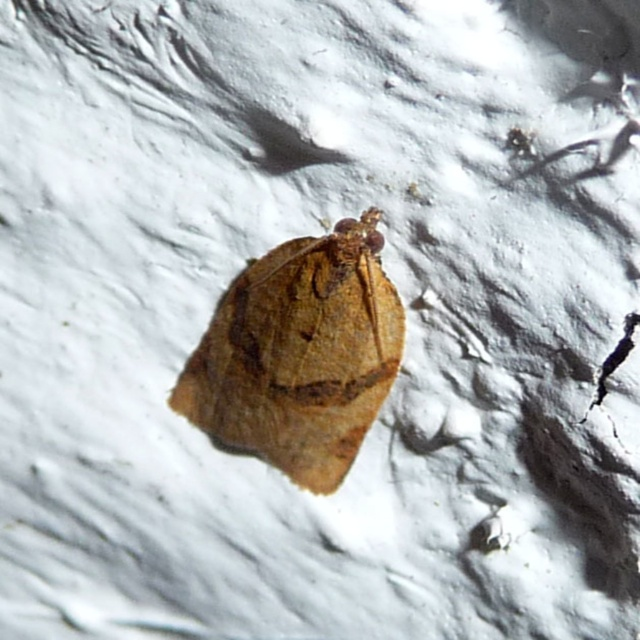Moths and butterflies: (160, 203, 413, 497)
